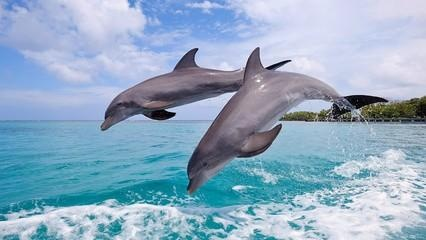fish: (185, 47, 390, 196), (97, 47, 292, 132)
